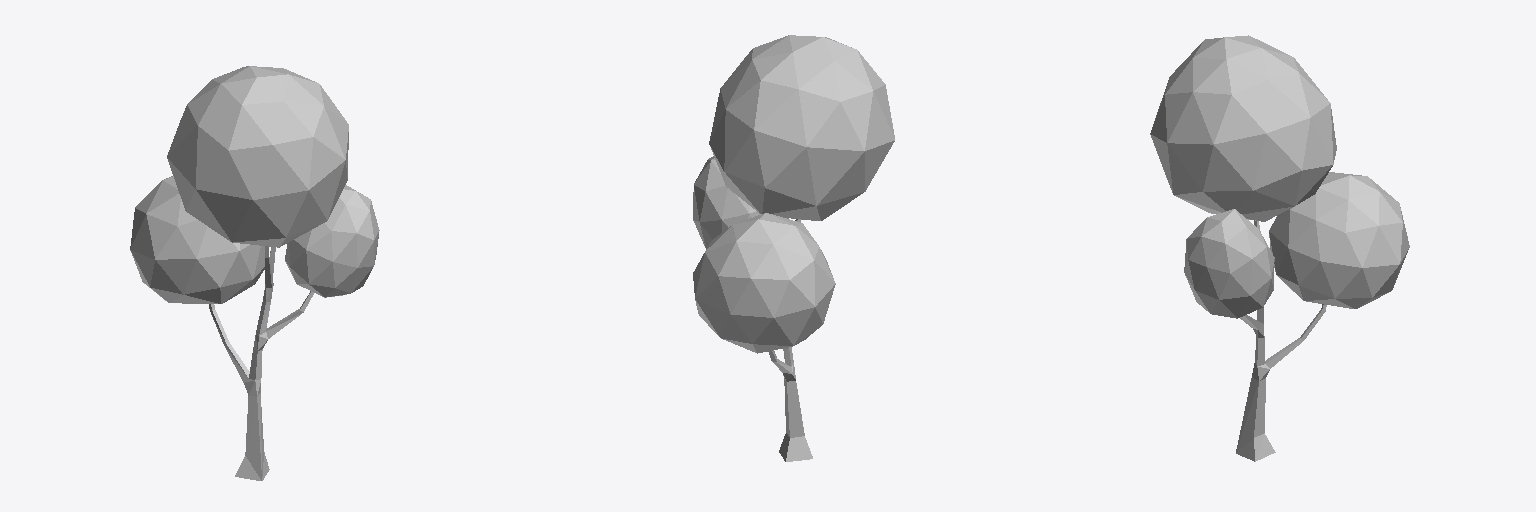
File: Tree_Oak_5.obj
3 views of the same model, side by side, from view 1: azimuth 30°, elevation 25°; view 2: azimuth 150°, elevation 25°; view 3: azimuth 270°, elevation 25° (orthographic).
Parts seen in each view (by area): view 1: Icosphere.063_Icosphere.100, Icosphere.080_Icosphere.102, Icosphere.079_Icosphere.101, Cube.083_Cube.214; view 2: Icosphere.063_Icosphere.100, Icosphere.080_Icosphere.102, Icosphere.079_Icosphere.101, Cube.083_Cube.214; view 3: Icosphere.063_Icosphere.100, Icosphere.080_Icosphere.102, Icosphere.079_Icosphere.101, Cube.083_Cube.214.
Part boxes in pixels (left/top/right/bottom): Icosphere.063_Icosphere.100: left=167, top=66, right=348, bottom=247; Icosphere.080_Icosphere.102: left=130, top=176, right=264, bottom=303; Icosphere.079_Icosphere.101: left=285, top=185, right=379, bottom=297; Cube.083_Cube.214: left=209, top=246, right=313, bottom=480; Icosphere.063_Icosphere.100: left=709, top=35, right=894, bottom=220; Icosphere.080_Icosphere.102: left=693, top=213, right=835, bottom=353; Icosphere.079_Icosphere.101: left=693, top=156, right=788, bottom=248; Cube.083_Cube.214: left=768, top=219, right=812, bottom=461; Icosphere.063_Icosphere.100: left=1150, top=35, right=1336, bottom=221; Icosphere.080_Icosphere.102: left=1269, top=172, right=1409, bottom=308; Icosphere.079_Icosphere.101: left=1184, top=209, right=1274, bottom=318; Cube.083_Cube.214: left=1236, top=220, right=1326, bottom=461.
Size of the model in its own units: 3.6 by 7.54 by 4.32.